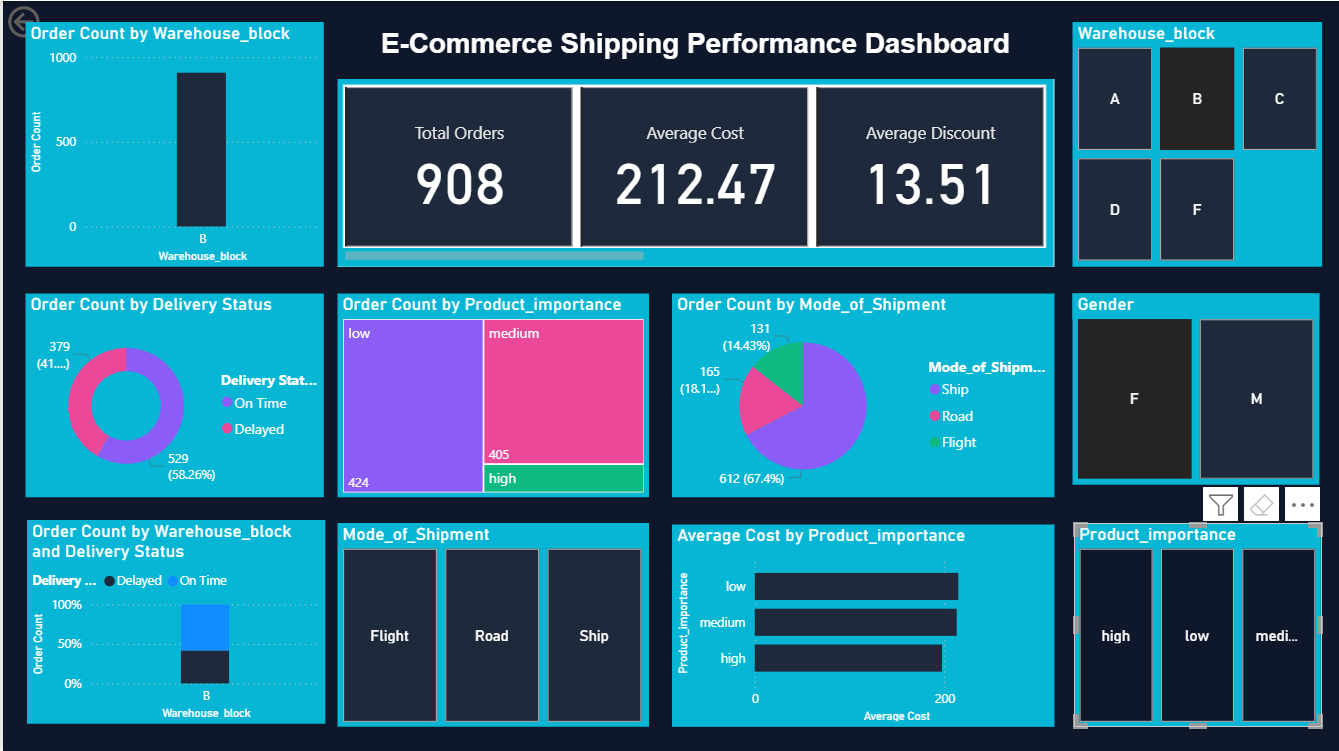

This screenshot's page, from the dashboard's own definition file:
{"tool":"powerbi","page":{"name":"Page 1","canvas":[1280,720],"ordinal":0},"visuals":[{"type":"cardVisual","fields":{"Data":["Ecommerce Shipping Data.Total Orders","Ecommerce Shipping Data.Average Cost","Ecommerce Shipping Data.Average Discount","Ecommerce Shipping Data.Average Rating","Ecommerce Shipping Data.Average Weight","Ecommerce Shipping Data.Delayed %","Ecommerce Shipping Data.On Time %"]},"box":[321.2,74.2,686.4,180.3],"z":0},{"type":"actionButton","box":[0,0,100,40],"z":1000},{"type":"treemap","fields":{"Group":["Ecommerce Shipping Data.Product_importance"],"Values":["Ecommerce Shipping Data.Order Count"]},"box":[321.2,280.3,298.5,195.5],"z":2000},{"type":"clusteredColumnChart","fields":{"Category":["Ecommerce Shipping Data.Warehouse_block"],"Y":["Ecommerce Shipping Data.Order Count"]},"box":[21.2,19.7,286.2,234.7],"z":3000},{"type":"pieChart","fields":{"Category":["Ecommerce Shipping Data.Mode_of_Shipment"],"Y":["Ecommerce Shipping Data.Order Count"]},"box":[640.9,280.3,366.7,195.5],"z":4000},{"type":"donutChart","fields":{"Category":["Ecommerce Shipping Data.Delivery Status"],"Y":["Ecommerce Shipping Data.Order Count"]},"box":[21.2,280.1,286.2,195.3],"z":5000},{"type":"hundredPercentStackedColumnChart","fields":{"Category":["Ecommerce Shipping Data.Warehouse_block"],"Y":["Ecommerce Shipping Data.Order Count"],"Series":["Ecommerce Shipping Data.Delivery Status"]},"box":[22.7,498.2,286.2,195.3],"z":6000},{"type":"advancedSlicerVisual","fields":{"Values":["Ecommerce Shipping Data.Warehouse_block"]},"box":[1025.8,19.7,239.4,234.8],"z":7000},{"type":"advancedSlicerVisual","fields":{"Values":["Ecommerce Shipping Data.Mode_of_Shipment"]},"box":[321.2,500,298.5,195.5],"z":8000},{"type":"advancedSlicerVisual","fields":{"Values":["Ecommerce Shipping Data.Gender"]},"box":[1025.8,280.3,236.4,183.3],"z":9000},{"type":"advancedSlicerVisual","fields":{"Values":["Ecommerce Shipping Data.Product_importance"]},"box":[1027.3,500,236.4,195.5],"z":10000},{"type":"clusteredBarChart","fields":{"Category":["Ecommerce Shipping Data.Product_importance"],"Y":["Ecommerce Shipping Data.Average Cost"]},"box":[640.9,501.5,366.7,193.9],"z":11000},{"type":"textbox","box":[321.2,19.7,686.4,43.9],"z":12000}]}

Visuals, with their boxes in screenshot pixels (x1, y1, x2, y2), scaled from the page's 1280x720 canvas onto the 1339x751 screenshot:
cardVisual - Ecommerce Shipping Data.Total Orders x Ecommerce Shipping Data.Average Cost: 336 77 1054 265
actionButton: 0 0 105 42
treemap - Ecommerce Shipping Data.Product_importance x Ecommerce Shipping Data.Order Count: 336 292 648 496
clusteredColumnChart - Ecommerce Shipping Data.Warehouse_block x Ecommerce Shipping Data.Order Count: 22 21 322 265
pieChart - Ecommerce Shipping Data.Mode_of_Shipment x Ecommerce Shipping Data.Order Count: 670 292 1054 496
donutChart - Ecommerce Shipping Data.Delivery Status x Ecommerce Shipping Data.Order Count: 22 292 322 496
hundredPercentStackedColumnChart - Ecommerce Shipping Data.Warehouse_block x Ecommerce Shipping Data.Order Count: 24 520 323 723
advancedSlicerVisual - Ecommerce Shipping Data.Warehouse_block: 1073 21 1324 265
advancedSlicerVisual - Ecommerce Shipping Data.Mode_of_Shipment: 336 522 648 725
advancedSlicerVisual - Ecommerce Shipping Data.Gender: 1073 292 1320 484
advancedSlicerVisual - Ecommerce Shipping Data.Product_importance: 1075 522 1322 725
clusteredBarChart - Ecommerce Shipping Data.Product_importance x Ecommerce Shipping Data.Average Cost: 670 523 1054 725
textbox: 336 21 1054 66
